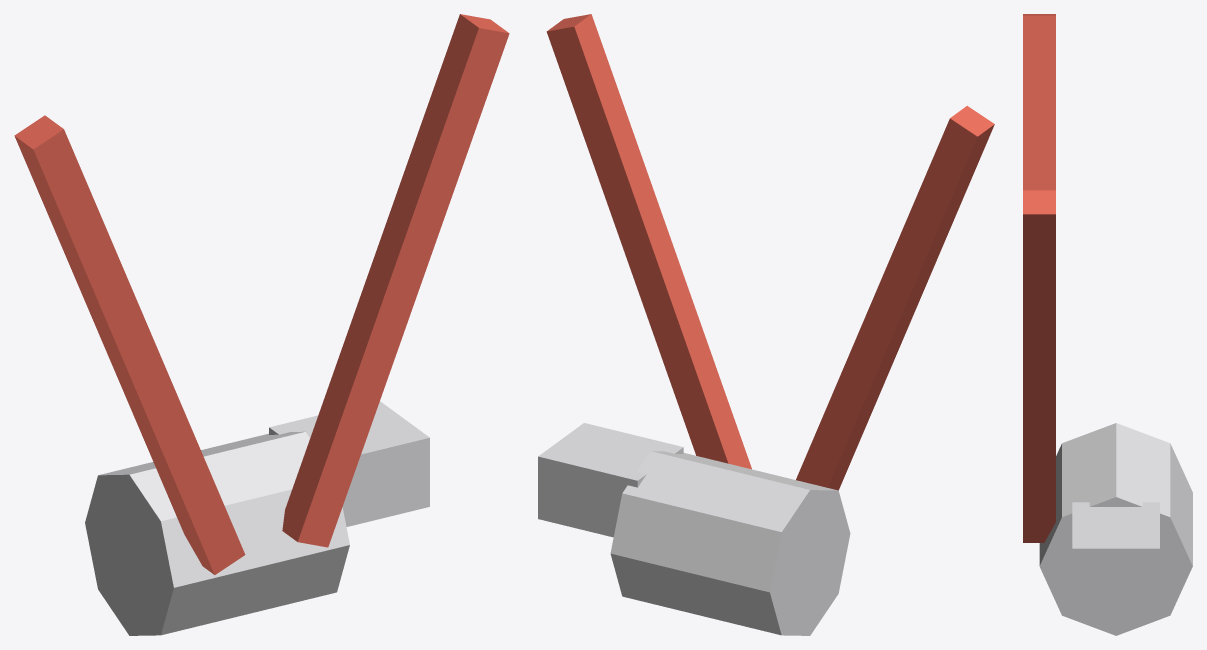
File: neck_whistle.glb
3 renders of one model, left to right at view 1: azimuth 30°, elevation 25°; view 2: azimuth 150°, elevation 25°; view 3: azimuth 270°, elevation 25°, orthographic. The views are drawn at different scales.
Parts seen in each view (by area): view 1: Torso; view 2: Torso; view 3: Torso.
Boxes of the visible parts, <box> form: Torso: <box>14,14,509,635</box>; Torso: <box>538,14,994,635</box>; Torso: <box>1023,14,1192,635</box>.
Size of the model in its own units: 0.2163 by 0.2498 by 0.0775.
